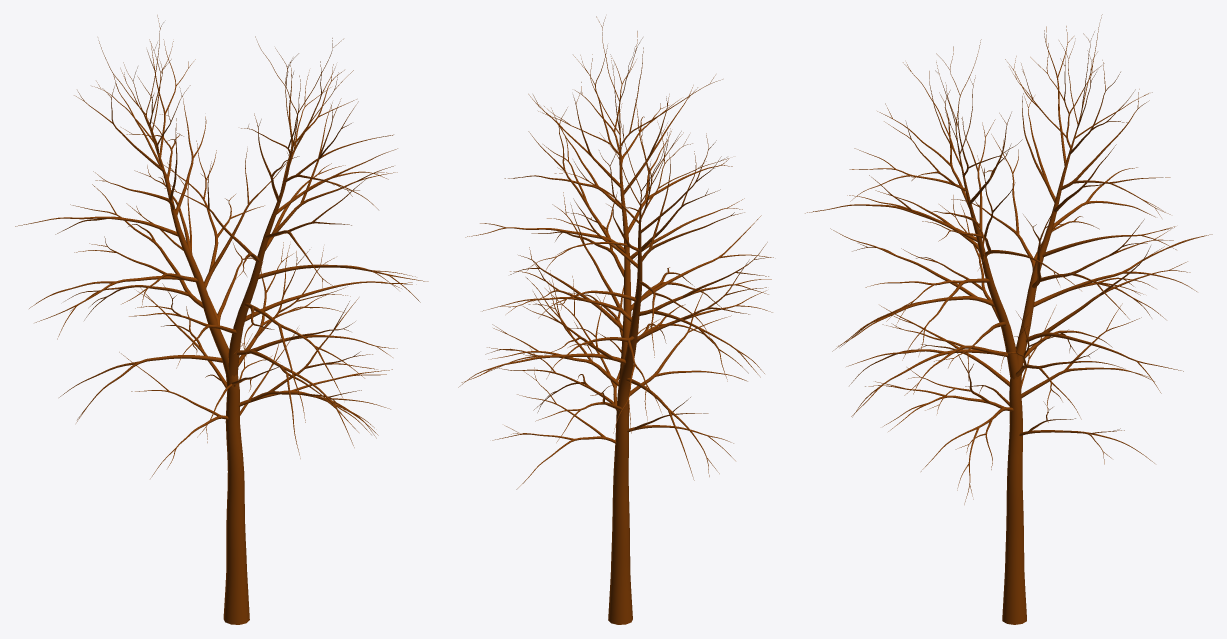
The model's file is TREE_TRUNK_5.fbx.
3 renders of one model, left to right at view 1: azimuth 30°, elevation 25°; view 2: azimuth 150°, elevation 25°; view 3: azimuth 270°, elevation 25°, orthographic. The views are drawn at different scales.
Parts seen in each view (by area): view 1: tree.009; view 2: tree.009; view 3: tree.009.
Part boxes in pixels (x1,y1,x2,y2): tree.009: (15, 15, 428, 624); tree.009: (458, 16, 773, 624); tree.009: (805, 14, 1212, 624).
Bounding box in the file's own units: 903 × 1613 × 1020.
